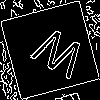W: (25, 25, 89, 89)
